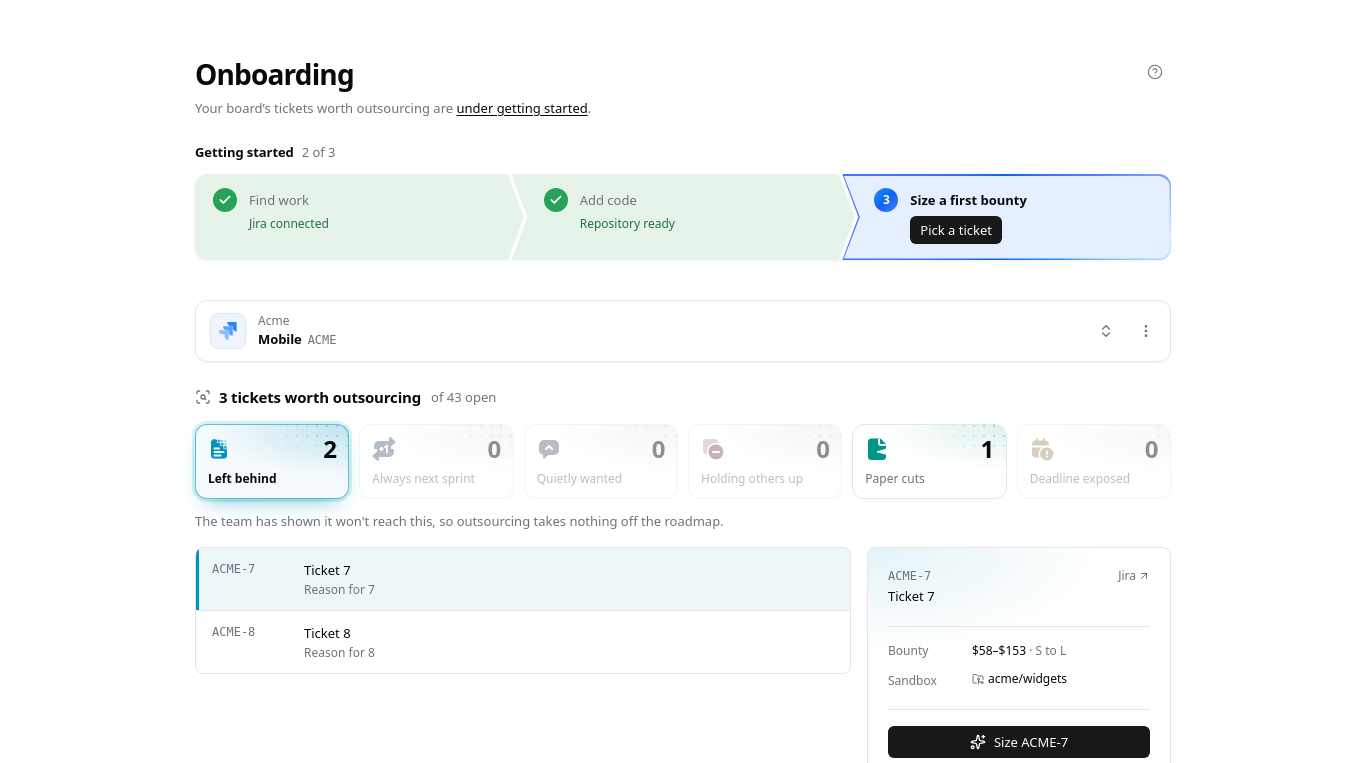
Test: the board bar names the board under Jira's mark, and holds the board-wide actions in its menu
Check: the button with aria-label "Switch board — Mobile" is shown, box [202, 307, 1122, 355]
Check: the list with test id "scan-categories" is shown, box [195, 424, 1171, 499]
Click the button named "Board actions" at point(1146, 331), box [1128, 313, 1164, 349]
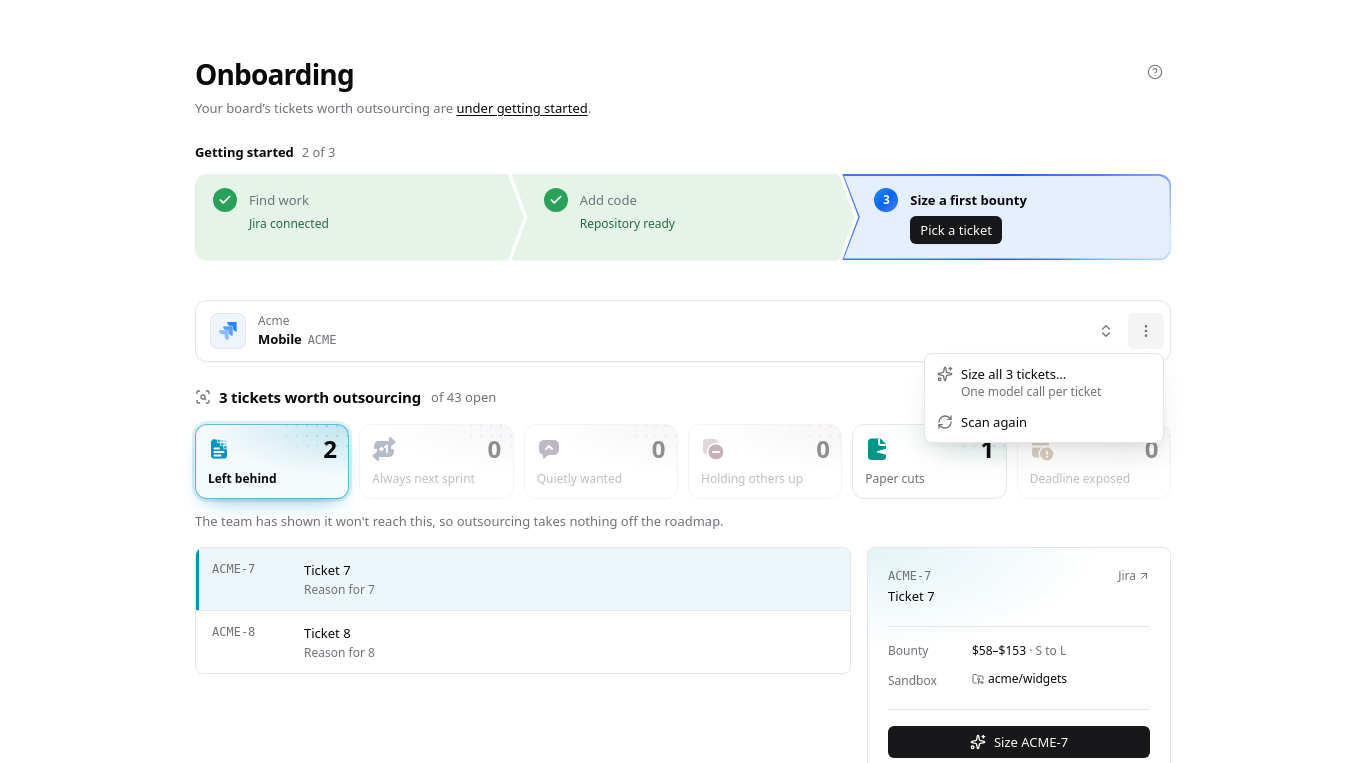
Click the menu item "Scan again" at point(982, 422), box [937, 413, 1027, 431]
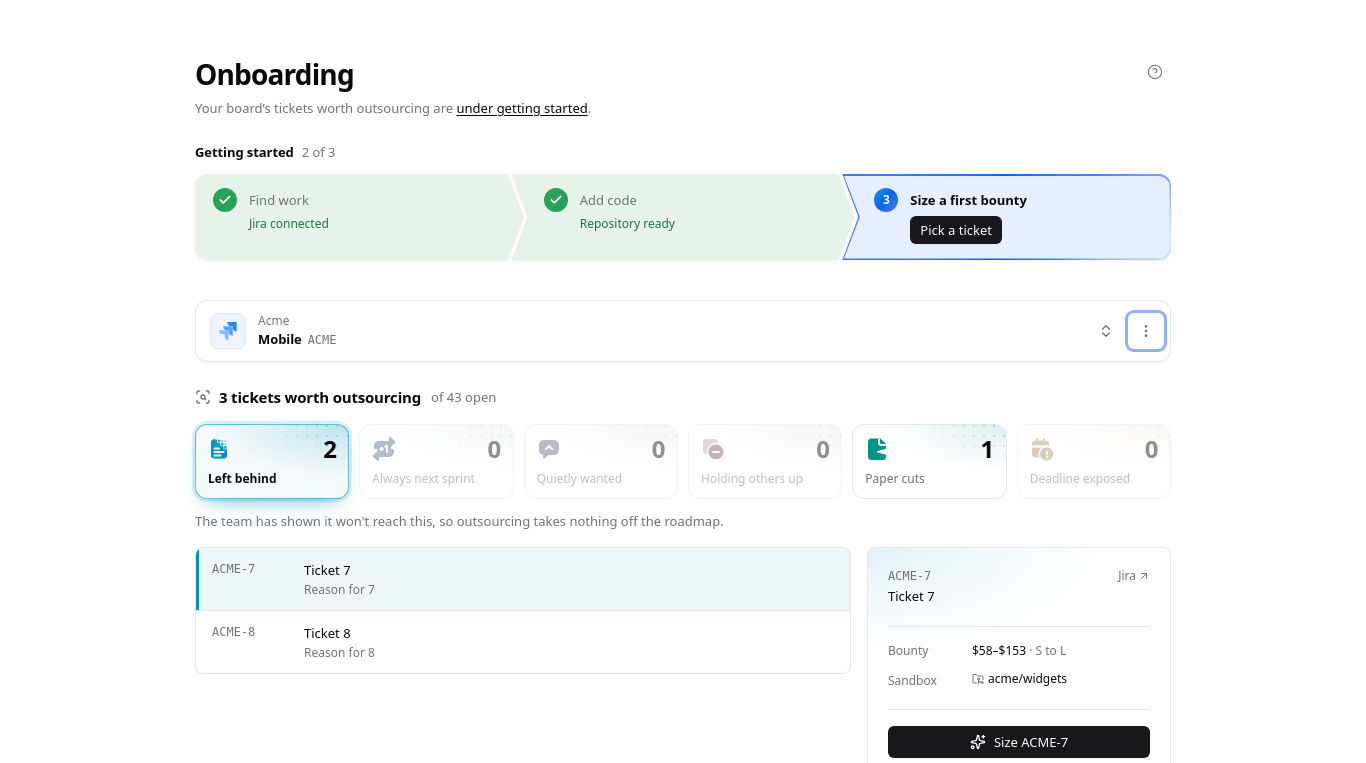
Click the button named "Board actions" at point(1146, 331), box [1128, 313, 1164, 349]
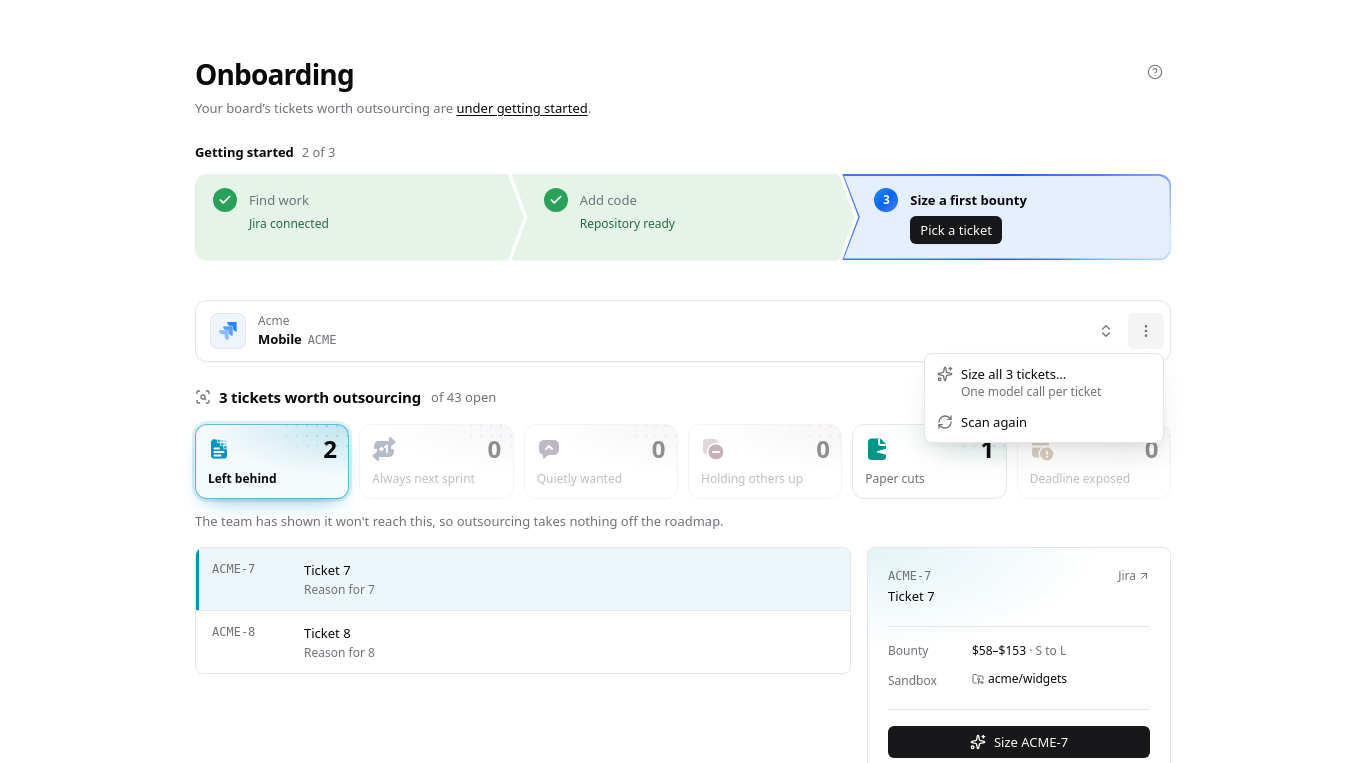
Click the menu item "Size all 3 tickets… One model call per ticket" at point(1019, 382), box [937, 365, 1101, 400]
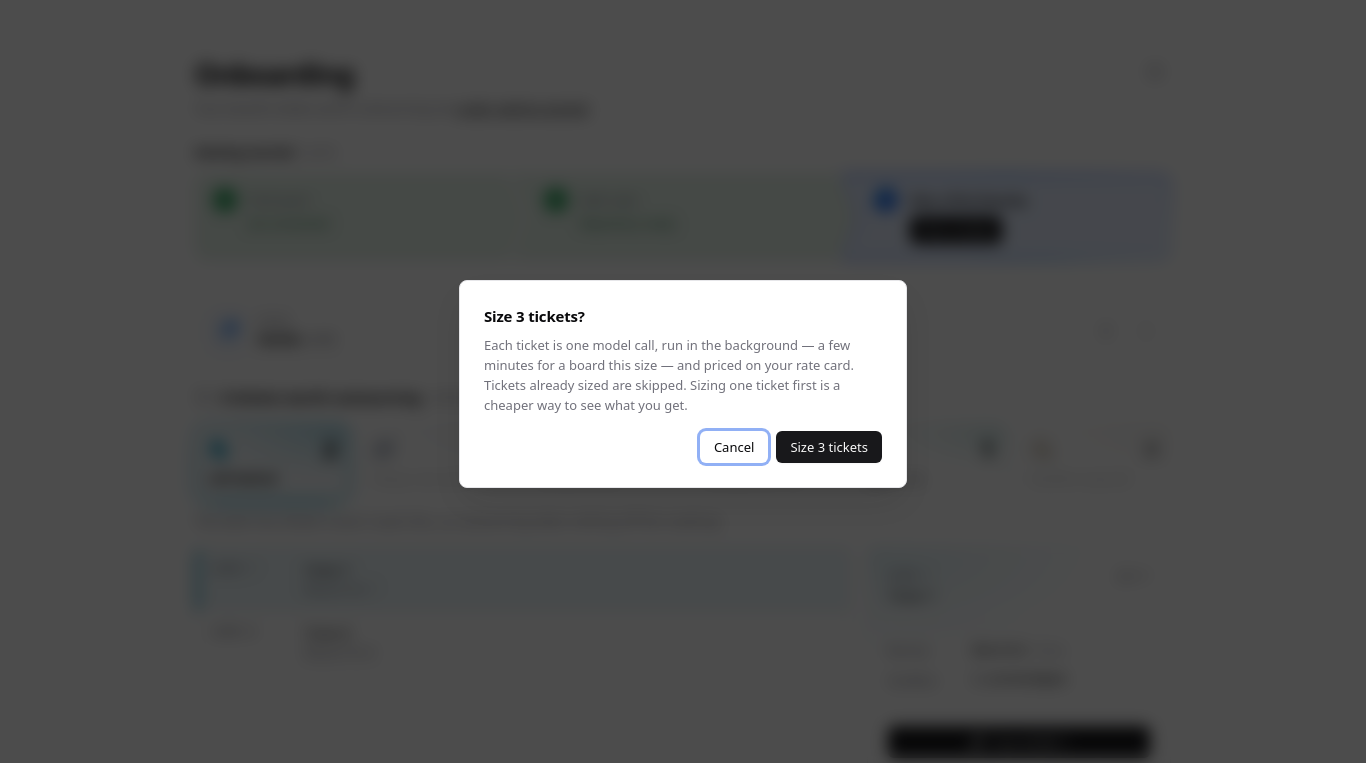
Check: the dialog "Size 3 tickets?" is shown, box [459, 280, 907, 488]
